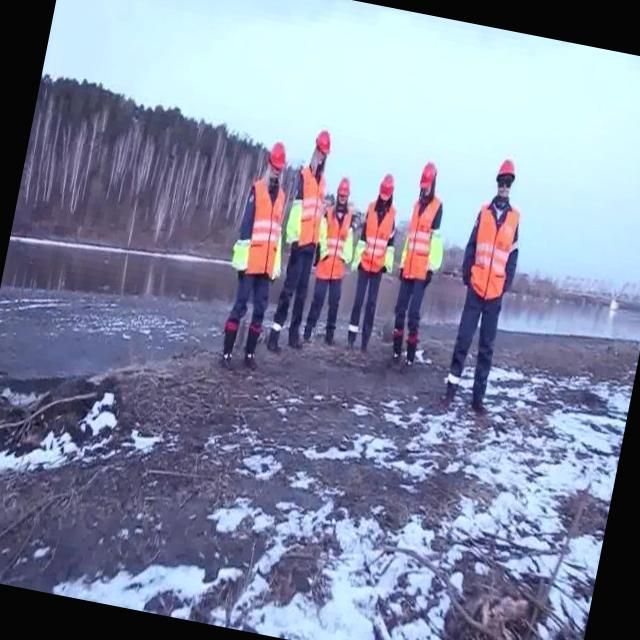boots: (206, 311, 246, 387), (230, 320, 265, 383), (460, 371, 500, 420), (432, 370, 464, 418), (336, 318, 366, 365), (263, 310, 289, 362), (352, 316, 379, 361), (397, 331, 424, 373), (286, 302, 306, 354), (314, 316, 342, 352), (384, 327, 408, 368), (302, 318, 318, 346)
helmet: (464, 198, 523, 305), (375, 169, 398, 202), (418, 160, 441, 192), (312, 127, 334, 160), (266, 136, 288, 168), (496, 154, 518, 184), (334, 175, 352, 198)
vest: (236, 176, 292, 280), (284, 166, 334, 254), (356, 199, 400, 278), (401, 198, 441, 284), (315, 202, 356, 280), (284, 186, 308, 246), (423, 226, 448, 274), (230, 234, 253, 277), (314, 216, 334, 263), (269, 238, 288, 284), (341, 230, 357, 270), (382, 243, 396, 277), (352, 235, 366, 266)
